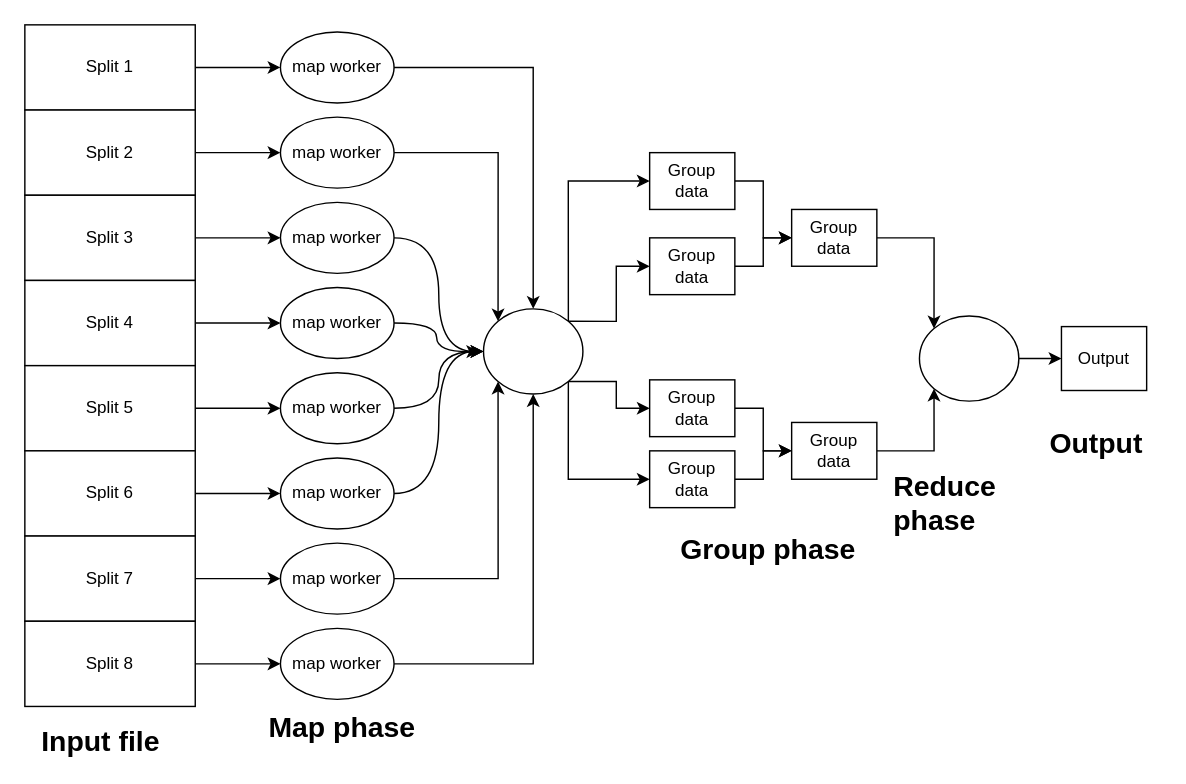
The diagram is 1186 pixels wide and 784 high, and some of its shapes have lost their labels. The shapes that lost their labels are listed below. From the top down, each one's box as (x1, y1, x2, y2) in pixels, then its label:
(482, 307, 583, 394): Organize data
(918, 315, 1019, 401): Reduce worker
